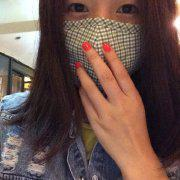OK: (62, 2, 147, 87)
